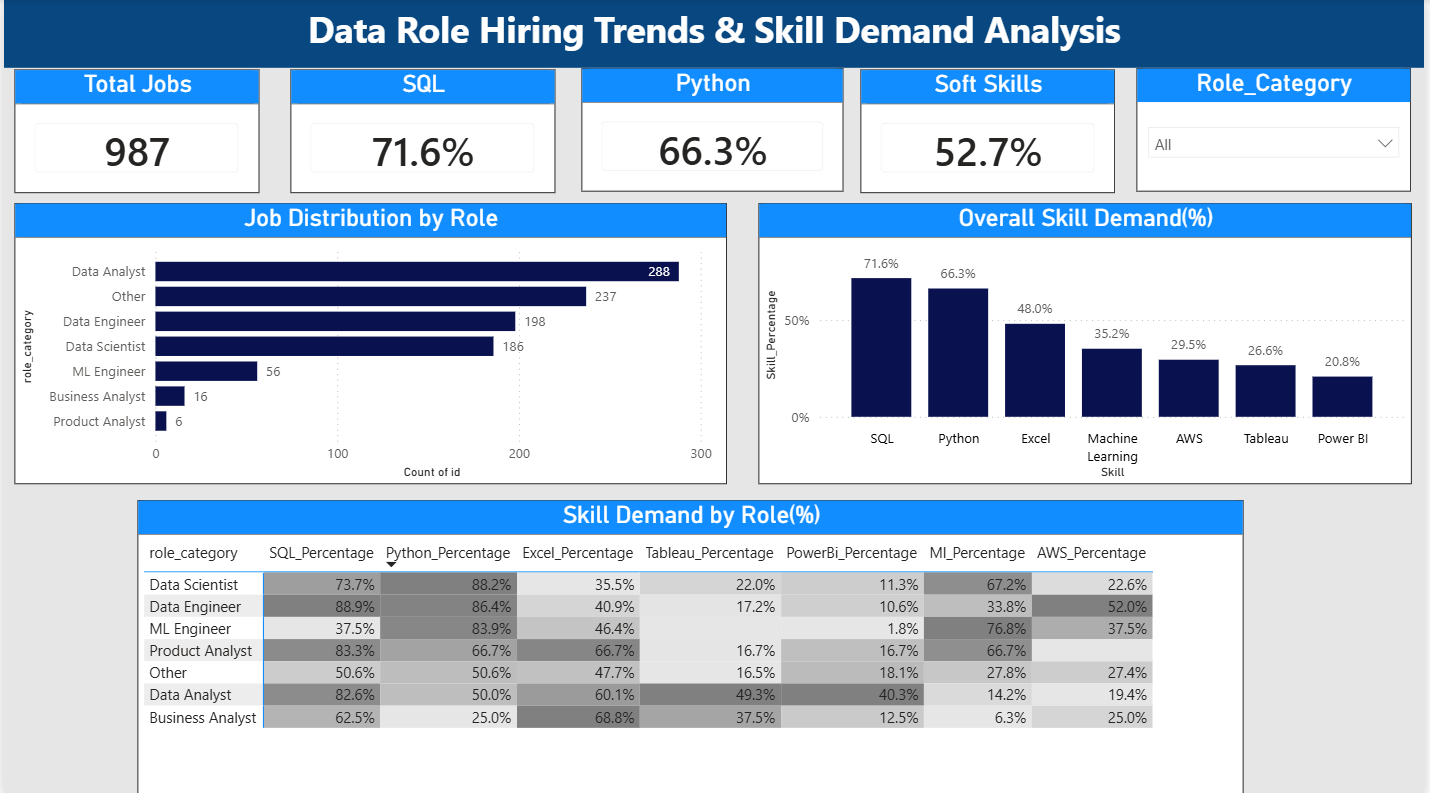

This screenshot's page, from the dashboard's own definition file:
{"tool":"powerbi","page":{"name":"Data Role Market Intelligence","canvas":[1280,720],"ordinal":0},"visuals":[{"type":"cardVisual","title":"Total Jobs","fields":{"Data":["CountNonNull(cleaned_linkedin_jobs.id)"]},"box":[9.6,63.1,220.9,111.2],"z":0},{"type":"cardVisual","title":"SQL","fields":{"Data":["cleaned_linkedin_jobs.SQL_Percentage"]},"box":[258,63.1,238.8,111.2],"z":1000},{"type":"cardVisual","title":"Python","fields":{"Data":["cleaned_linkedin_jobs.Python_Percentage"]},"box":[520.1,61.8,236,111.2],"z":2000},{"type":"clusteredBarChart","title":"Job Distribution by Role","fields":{"Y":["CountNonNull(cleaned_linkedin_jobs.id)"],"Category":["cleaned_linkedin_jobs.role_category"]},"box":[10,183.3,641.7,253.3],"z":3000},{"type":"cardVisual","title":"Soft Skills","fields":{"Data":["cleaned_linkedin_jobs.Communication_Percentage"]},"box":[771.2,63.1,229.2,111.2],"z":4000},{"type":"pivotTable","title":"Skill Demand by Role(%)","fields":{"Rows":["cleaned_linkedin_jobs.role_category"],"Values":["cleaned_linkedin_jobs.SQL_Percentage","cleaned_linkedin_jobs.Python_Percentage","cleaned_linkedin_jobs.Excel_Percentage","cleaned_linkedin_jobs.Tableau_Percentage","cleaned_linkedin_jobs.PowerBi_Percentage","cleaned_linkedin_jobs.Ml_Percentage","cleaned_linkedin_jobs.AWS_Percentage"]},"box":[120,451.7,996.7,268.3],"z":5000},{"type":"slicer","title":"Role_Category","fields":{"Values":["cleaned_linkedin_jobs.role_category"]},"box":[1021,61.8,247,111.2],"z":6000},{"type":"clusteredColumnChart","title":"Overall Skill Demand(%)","fields":{"Y":["Skill_Table.Skill_Percentage"],"Category":["Skill_Table.Skill"]},"box":[680,183.3,588.3,253.3],"z":7000},{"type":"textbox","box":[0,0,1280,61.7],"z":8001}]}

Visuals, with their boxes in screenshot pixels (x1, y1, x2, y2), scaled from the page's 1280x720 canvas onto the 1430x793 screenshot:
"Total Jobs" cardVisual: (x1=11, y1=69, x2=258, y2=192)
"SQL" cardVisual: (x1=288, y1=69, x2=555, y2=192)
"Python" cardVisual: (x1=581, y1=68, x2=845, y2=191)
"Job Distribution by Role" clusteredBarChart: (x1=11, y1=202, x2=728, y2=481)
"Soft Skills" cardVisual: (x1=862, y1=69, x2=1118, y2=192)
"Skill Demand by Role(%)" pivotTable: (x1=134, y1=497, x2=1248, y2=792)
"Role_Category" slicer: (x1=1141, y1=68, x2=1417, y2=191)
"Overall Skill Demand(%)" clusteredColumnChart: (x1=760, y1=202, x2=1417, y2=481)
textbox: (x1=0, y1=0, x2=1429, y2=68)
